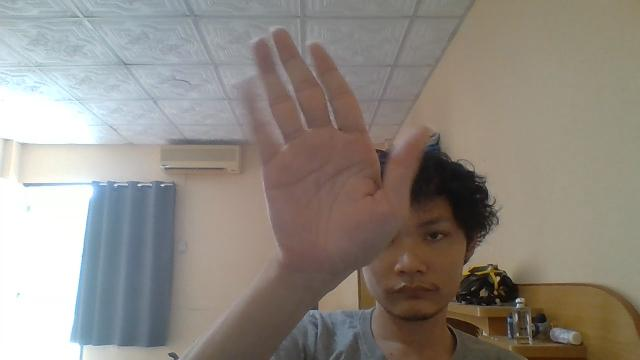Stop: (234, 25, 434, 287)
